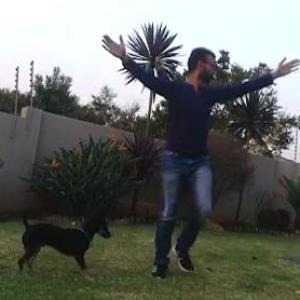takeoff: (100, 33, 294, 280)
